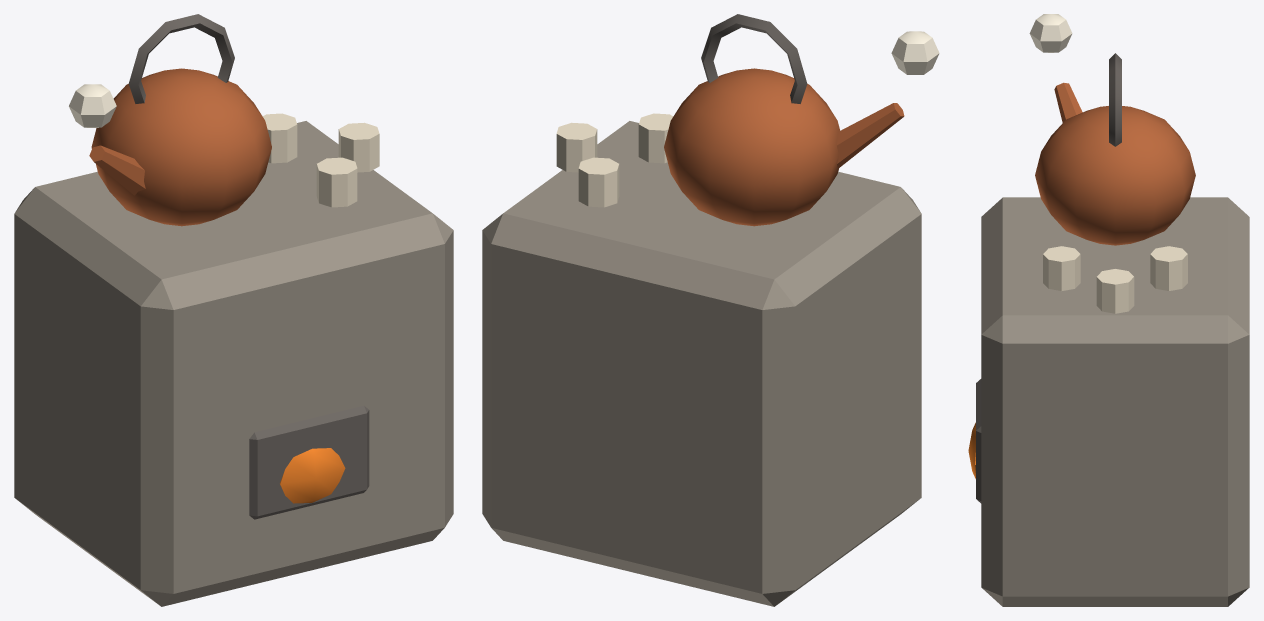
The model's file is PR_Station_Cay_T1.fbx.
The picture shows the model from 3 angles, left to right: view 1: azimuth 30°, elevation 25°; view 2: azimuth 150°, elevation 25°; view 3: azimuth 270°, elevation 25°; orthographic projection. The views are drawn at different scales.
Visible parts, largest first — view 1: PR_Station_Cay_T1; view 2: PR_Station_Cay_T1; view 3: PR_Station_Cay_T1.
Part boxes in pixels (x1,y1,x2,y2): PR_Station_Cay_T1: [14, 14, 453, 606]; PR_Station_Cay_T1: [482, 14, 939, 606]; PR_Station_Cay_T1: [968, 14, 1249, 606].
Size of the model in its own units: 0.6746 by 0.957 by 0.524.
Materials: 1 (1 with a texture image).
